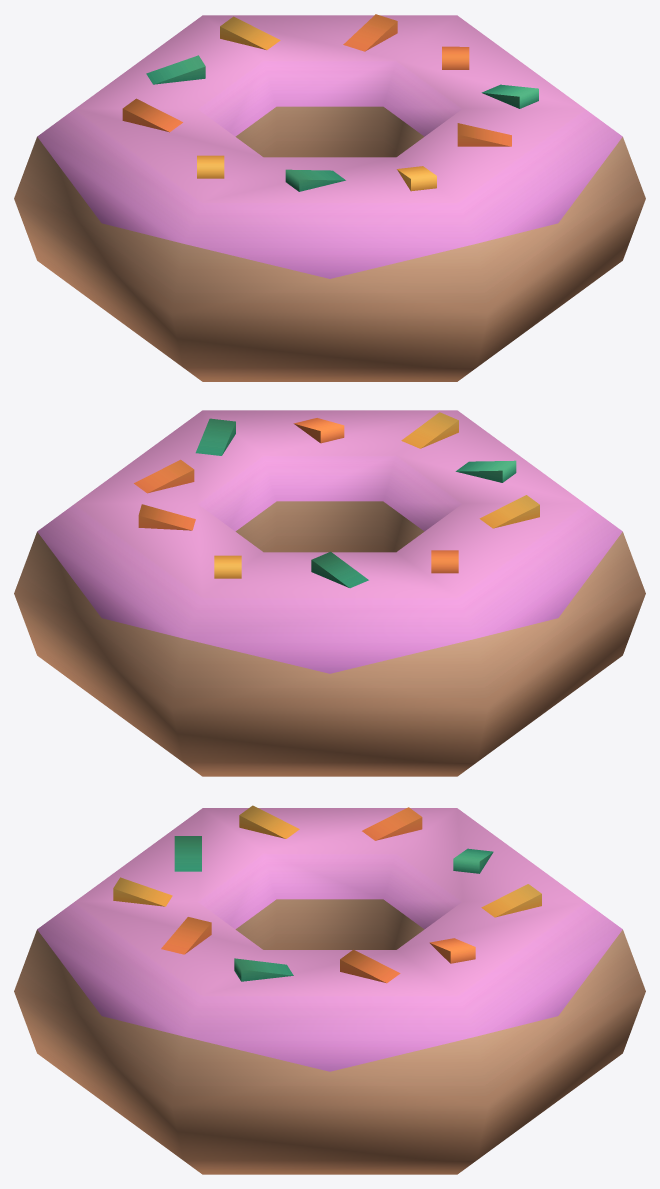
Rendered from food.donut_sprinkles.glb.
3 renders of one model, top to bottom at view 1: azimuth 30°, elevation 25°; view 2: azimuth 150°, elevation 25°; view 3: azimuth 270°, elevation 25°, orthographic.
Parts seen in each view (by area): view 1: donut-sprinkles; view 2: donut-sprinkles; view 3: donut-sprinkles.
Boxes of the visible parts, x1=… form: donut-sprinkles: x1=14, y1=14, x2=645, y2=381; donut-sprinkles: x1=14, y1=410, x2=645, y2=776; donut-sprinkles: x1=14, y1=805, x2=645, y2=1174.
Size of the model in its own units: 0.0728 by 0.0282 by 0.0841.
Materials: 1 (1 with a texture image).
